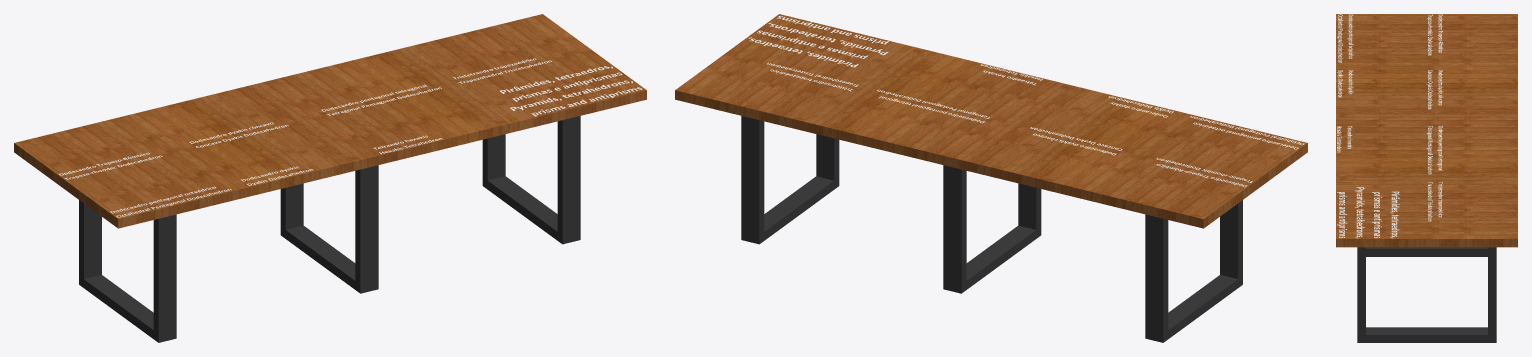
The model's file is mesa_Prisms4.glb.
The picture shows the model from 3 angles, left to right: view 1: azimuth 30°, elevation 25°; view 2: azimuth 150°, elevation 25°; view 3: azimuth 270°, elevation 25°; orthographic projection. The views are drawn at different scales.
Visible parts, largest first — view 1: object 1, Composant#1 (×3), Pirâmides, tetra#1, Dodecaedro penta, Dodecaedro penta#1; view 2: object 1, Composant#1 (×3), Pirâmides, tetra#1, Dodecaedro penta, Dodecaedro penta#1; view 3: object 1, Composant#1 (×2), Pirâmides, tetra#1, Dodecaedro penta#1, Dodecaedro penta, Dodecaedro Trape, Dodecaedro dyaki, Tristetraedro tr, Dodecaedro dyaki#1, Tetraedro hexaki.
Part boxes in pixels (x1,y1,x2,y2): object 1: (14, 14, 646, 228); Composant#1 (×3): (79, 116, 580, 342); Pirâmides, tetra#1: (500, 66, 642, 116); Dodecaedro penta: (110, 186, 231, 217); Dodecaedro penta#1: (321, 84, 441, 115); object 1: (675, 14, 1307, 228); Composant#1 (×3): (741, 116, 1242, 342); Pirâmides, tetra#1: (748, 16, 888, 67); Dodecaedro penta: (1190, 116, 1304, 149); Dodecaedro penta#1: (877, 89, 989, 123); object 1: (1336, 14, 1517, 247); Composant#1 (×2): (1357, 247, 1496, 342); Pirâmides, tetra#1: (1337, 187, 1399, 238); Dodecaedro penta#1: (1426, 126, 1442, 174); Dodecaedro penta: (1337, 14, 1353, 62); Dodecaedro Trape: (1427, 14, 1443, 55); Dodecaedro dyaki: (1427, 70, 1443, 109); Tristetraedro tr: (1427, 182, 1443, 221); Dodecaedro dyaki#1: (1337, 70, 1353, 97); Tetraedro hexaki: (1337, 126, 1352, 152).
Size of the model in its own units: 2.93 by 0.7711 by 1.
Materials: 3 (1 with a texture image).
